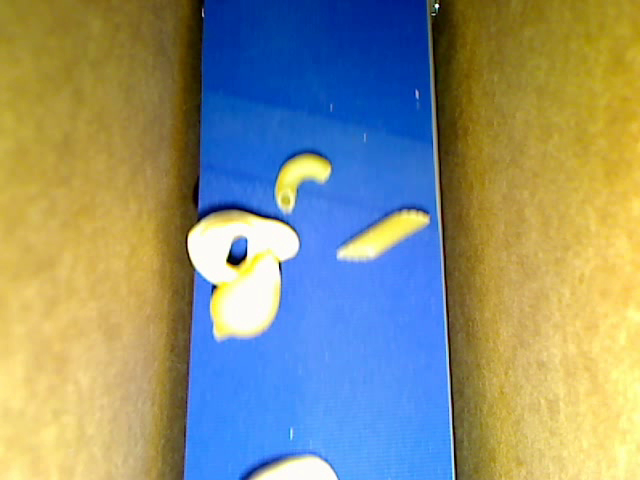elbow: (273, 153, 330, 212)
penne: (338, 210, 430, 259)
tortellini: (187, 210, 299, 286), (209, 248, 280, 340)
